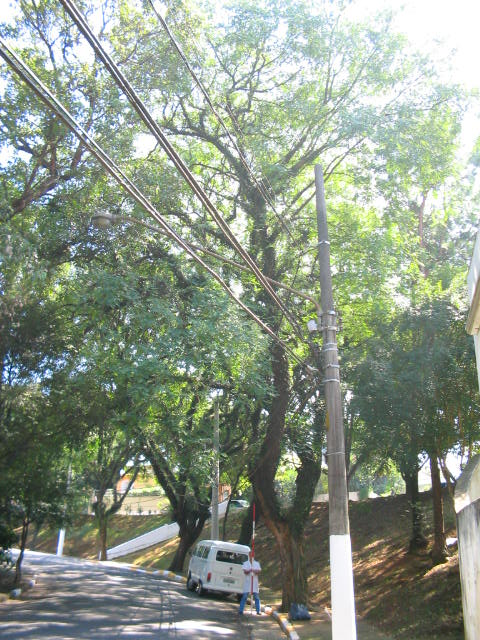crown: (92, 3, 465, 200)
stem: (265, 529, 317, 614), (167, 529, 195, 569)
stick: (245, 505, 257, 615)
tree: (88, 1, 466, 615), (116, 366, 238, 570)
